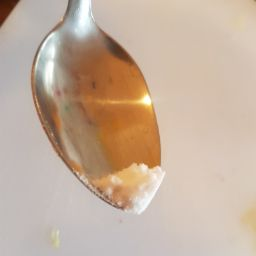Baking powder: (13, 19, 214, 240)
